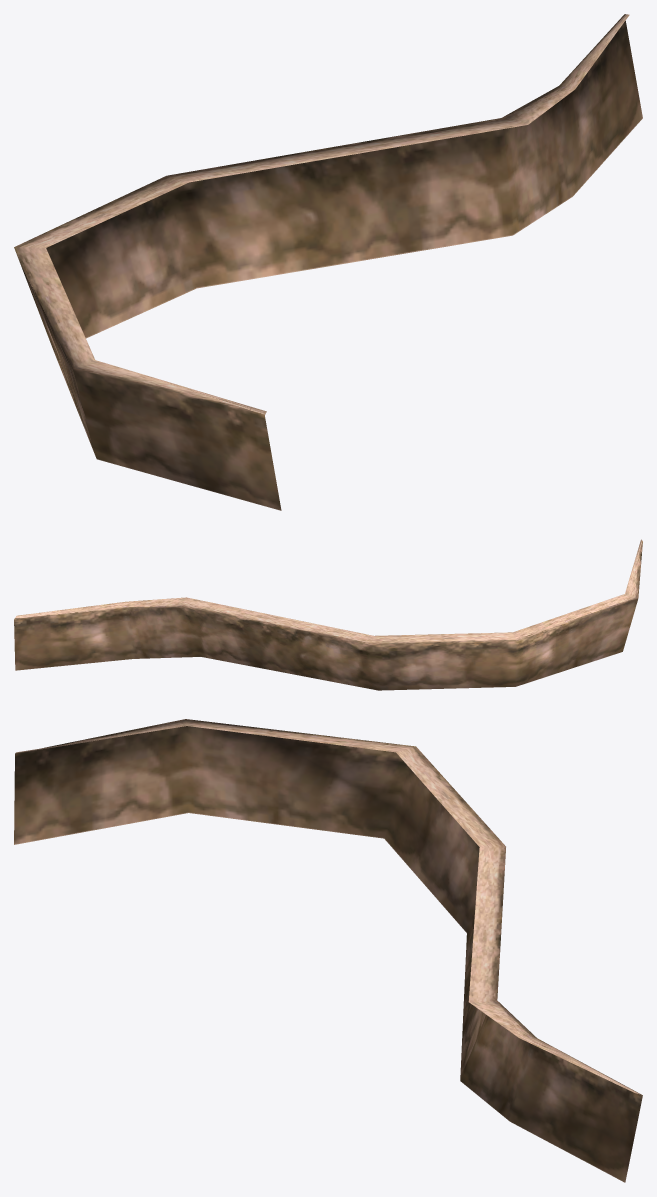
The model's file is EKH_GROTTO_PS_GR_LINE07.fbx.
3 renders of one model, top to bottom at view 1: azimuth 30°, elevation 25°; view 2: azimuth 150°, elevation 25°; view 3: azimuth 270°, elevation 25°, orthographic. The views are drawn at different scales.
Visible parts, largest first — view 1: EKH_GROTTO_PS_GR_LINE07; view 2: EKH_GROTTO_PS_GR_LINE07; view 3: EKH_GROTTO_PS_GR_LINE07.
Part boxes in pixels (left/top/right/bottom): EKH_GROTTO_PS_GR_LINE07: left=14, top=14, right=642, bottom=510; EKH_GROTTO_PS_GR_LINE07: left=14, top=539, right=642, bottom=690; EKH_GROTTO_PS_GR_LINE07: left=14, top=719, right=642, bottom=1182.
Bounding box in the file's own units: 49008 × 8316 × 37760.
1 material, 1 textured.
